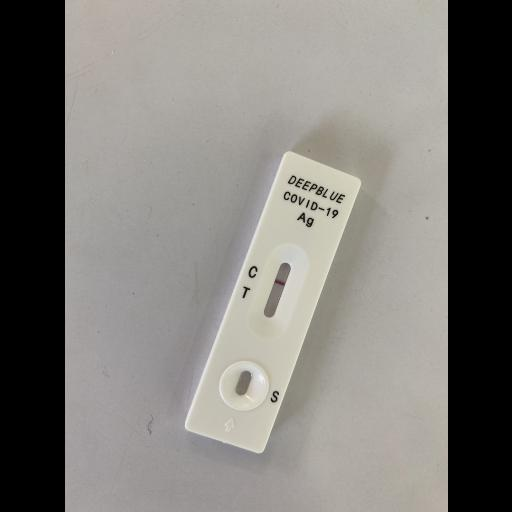Neg: (183, 150, 364, 457)
